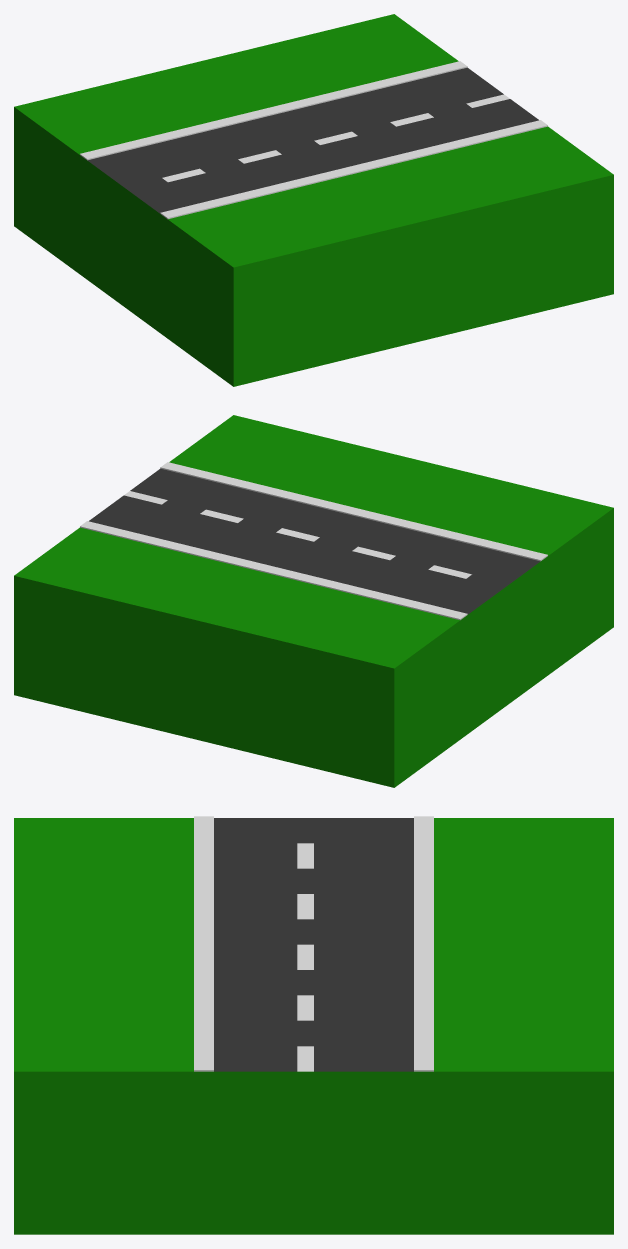
File: S_SingleRoad.fbx
3 views of the same model, one above another, from view 1: azimuth 30°, elevation 25°; view 2: azimuth 150°, elevation 25°; view 3: azimuth 270°, elevation 25° (orthographic). The views are drawn at different scales.
Visible parts, largest first — view 1: Cube; view 2: Cube; view 3: Cube.
Part boxes in pixels (bbox=[...]): Cube: bbox=[14, 14, 613, 386]; Cube: bbox=[14, 415, 613, 787]; Cube: bbox=[14, 816, 613, 1234].
Bounding box in the file's own units: 200 × 60.6 × 200.
